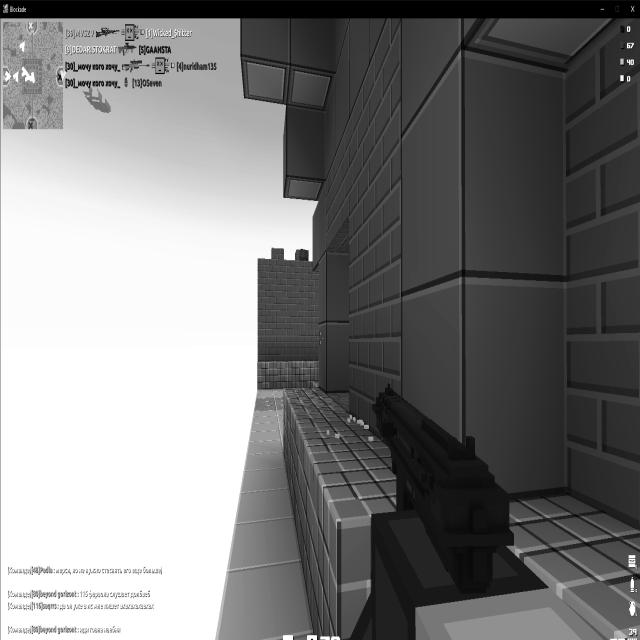Head: (298, 250, 309, 262)
Player: (300, 248, 309, 264)
